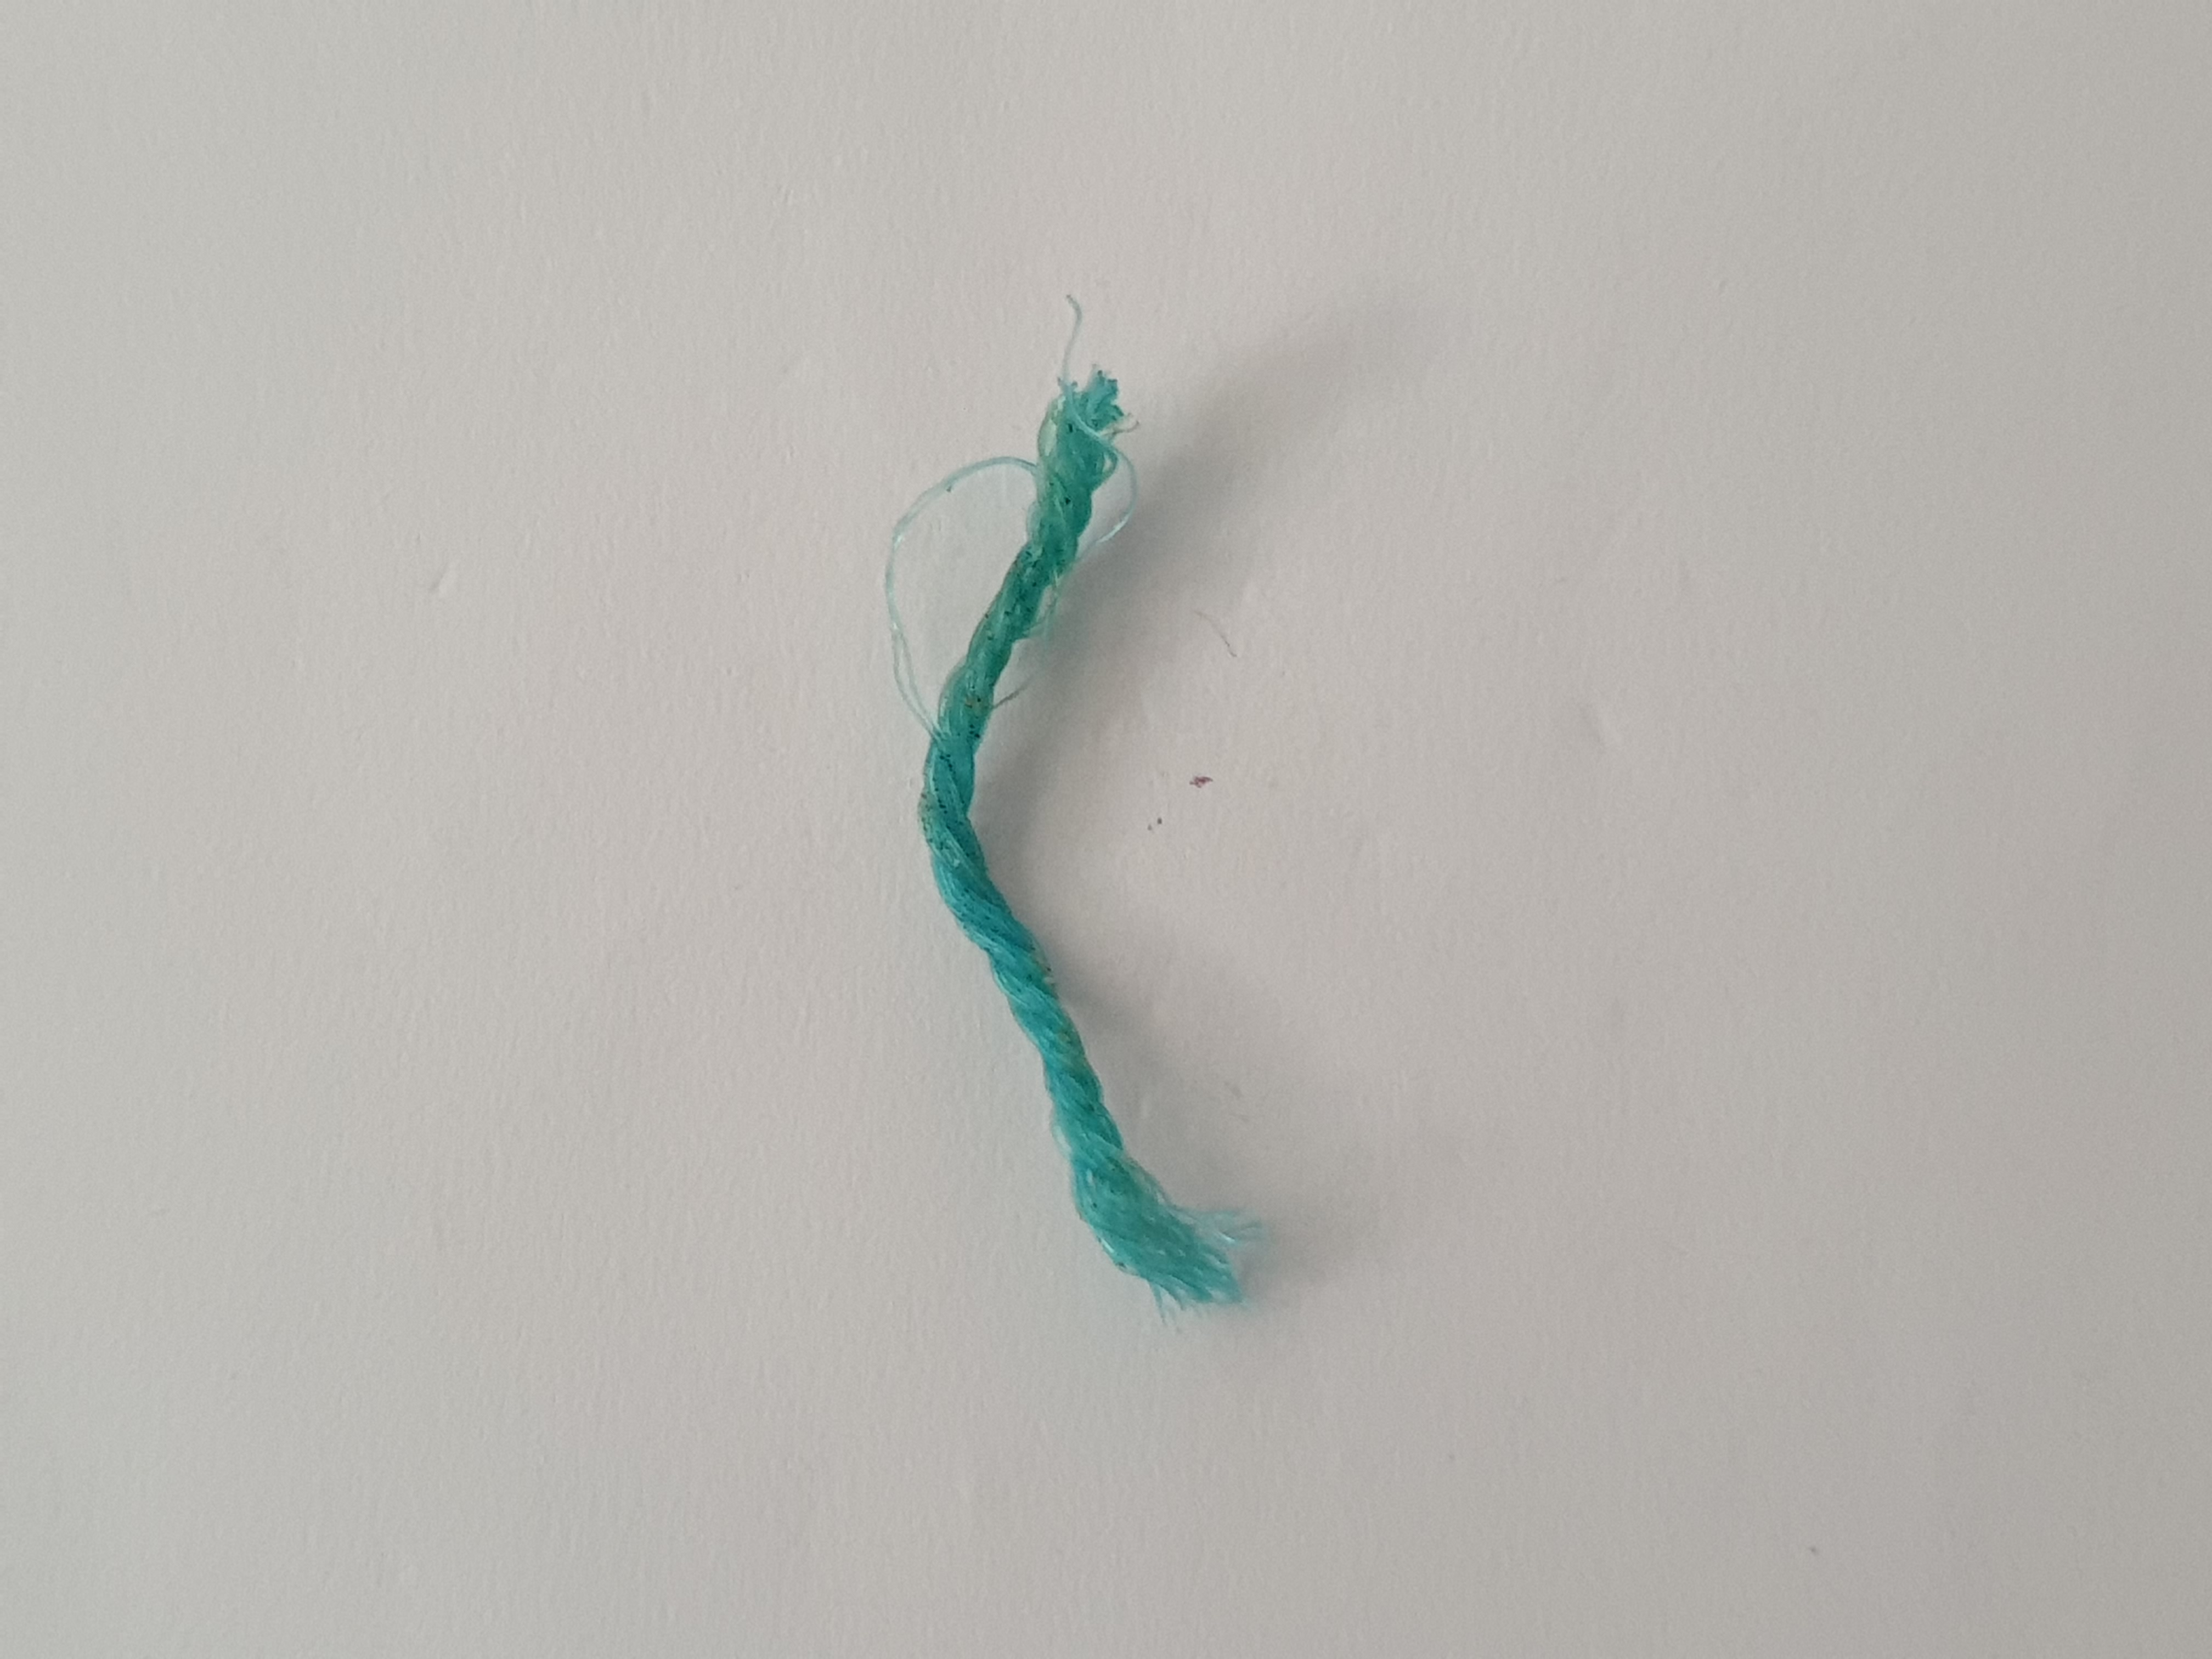thread: (815, 267, 1310, 1316)
